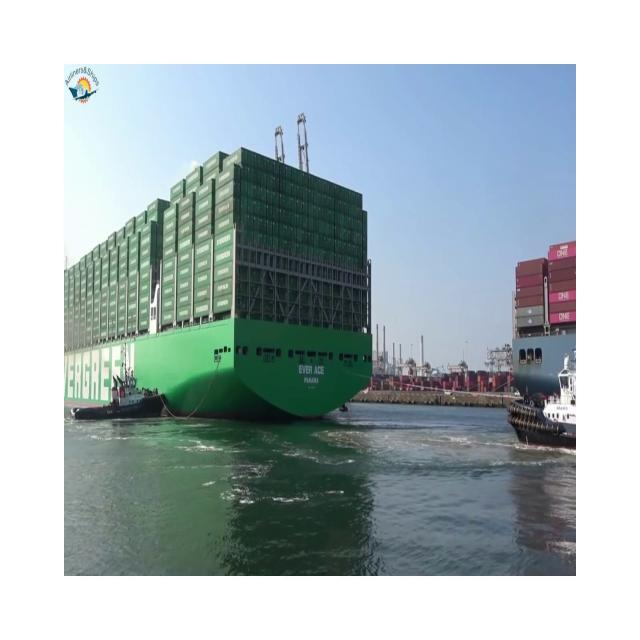OCR: (64, 346, 140, 407), (296, 358, 331, 394)
